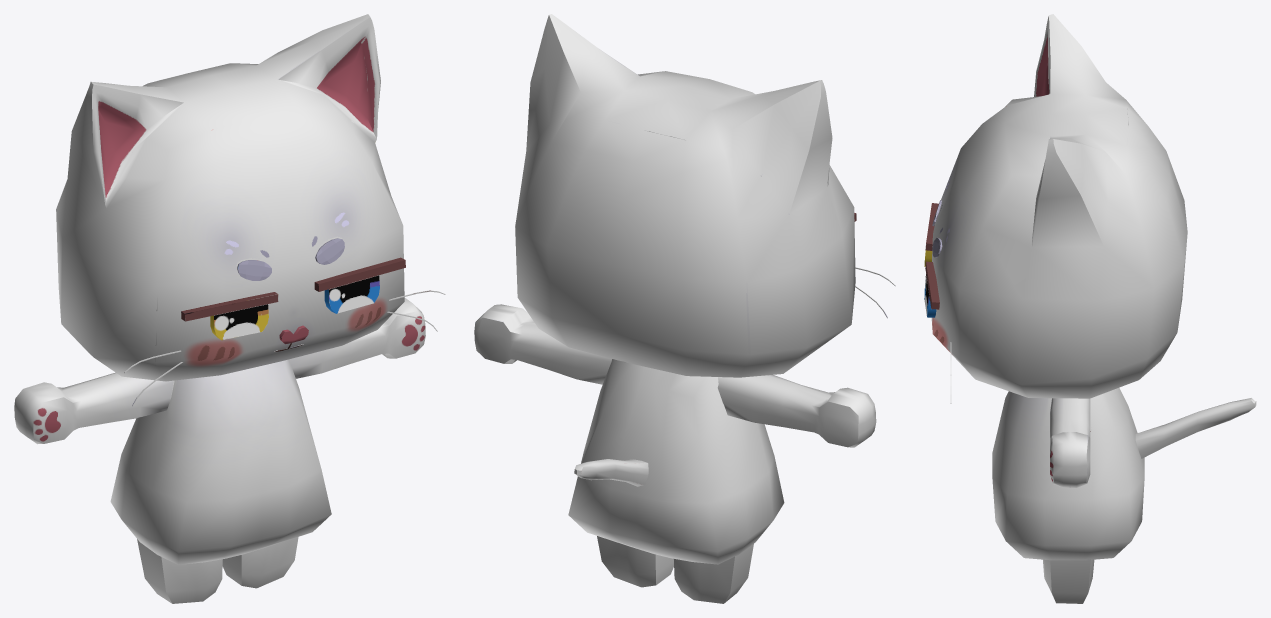
File: WhiteCat.fbx
The picture shows the model from 3 angles, left to right: view 1: azimuth 30°, elevation 25°; view 2: azimuth 150°, elevation 25°; view 3: azimuth 270°, elevation 25°; orthographic projection. The views are drawn at different scales.
Parts seen in each view (by area): view 1: Cube.001; view 2: Cube.001; view 3: Cube.001.
Boxes of the visible parts, left/top/right/bottom form: Cube.001: left=14, top=14, right=445, bottom=603; Cube.001: left=474, top=14, right=895, bottom=603; Cube.001: left=924, top=14, right=1256, bottom=603.
Bounding box in the file's own units: 280 × 369 × 220.
Materials: 1 (1 with a texture image).
